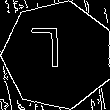L_S: (42, 30, 74, 81)
